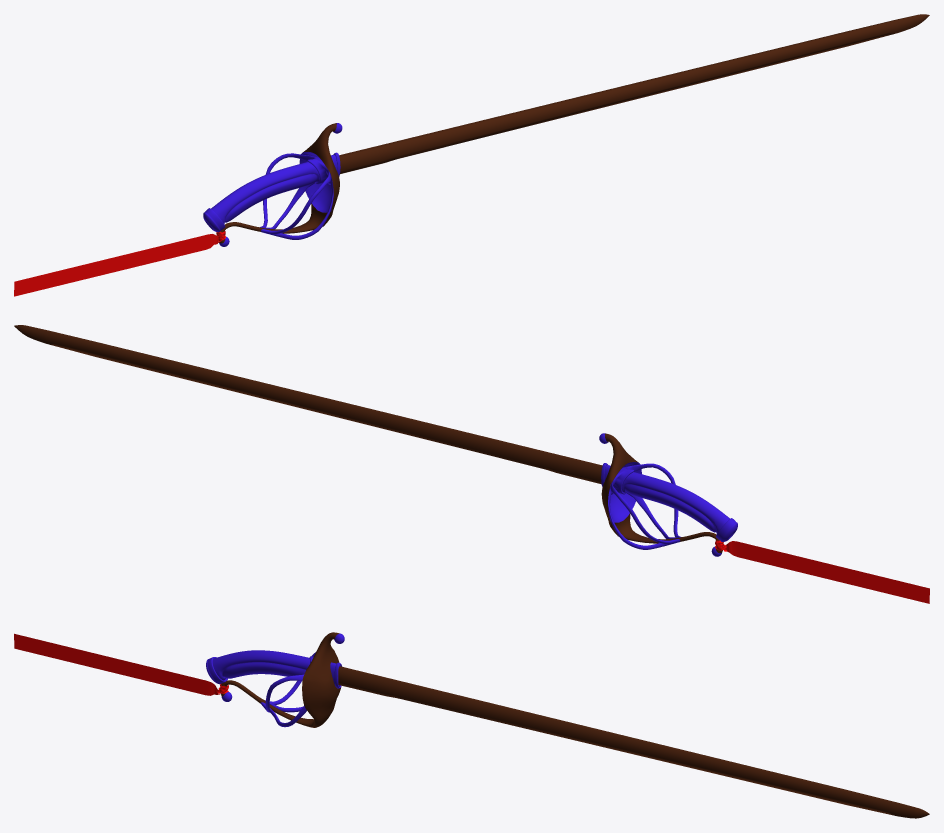
File: Sabre with tape.FBX
3 views of the same model, one above another, from view 1: azimuth 30°, elevation 25°; view 2: azimuth 150°, elevation 25°; view 3: azimuth 330°, elevation 25° (orthographic).
Parts seen in each view (by area): view 1: Sabre, Lenta; view 2: Sabre, Lenta; view 3: Sabre, Lenta.
Boxes of the visible parts, x1,y1,x2,y2 form: Sabre: (203,14,929,246); Lenta: (14,234,217,296); Sabre: (14,325,737,556); Lenta: (726,541,929,603); Sabre: (206,632,929,818); Lenta: (14,633,217,695).
Bounding box in the file's own units: 117 × 12.16 × 9.7.
